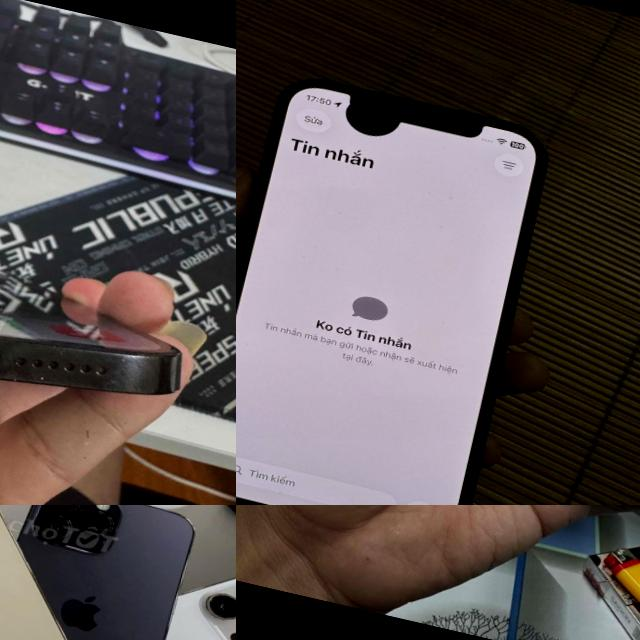scratch: (0, 293, 211, 432)
screen_defect: (318, 76, 431, 156)
